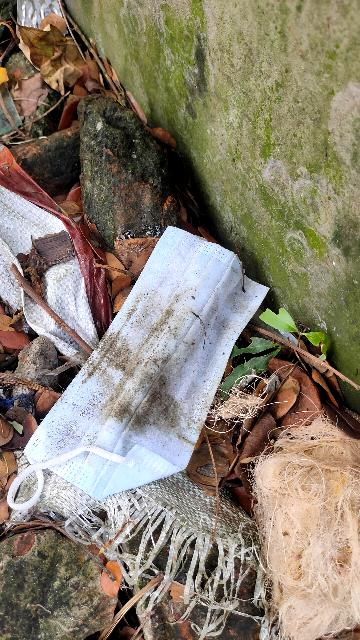mask: (0, 193, 315, 594)
